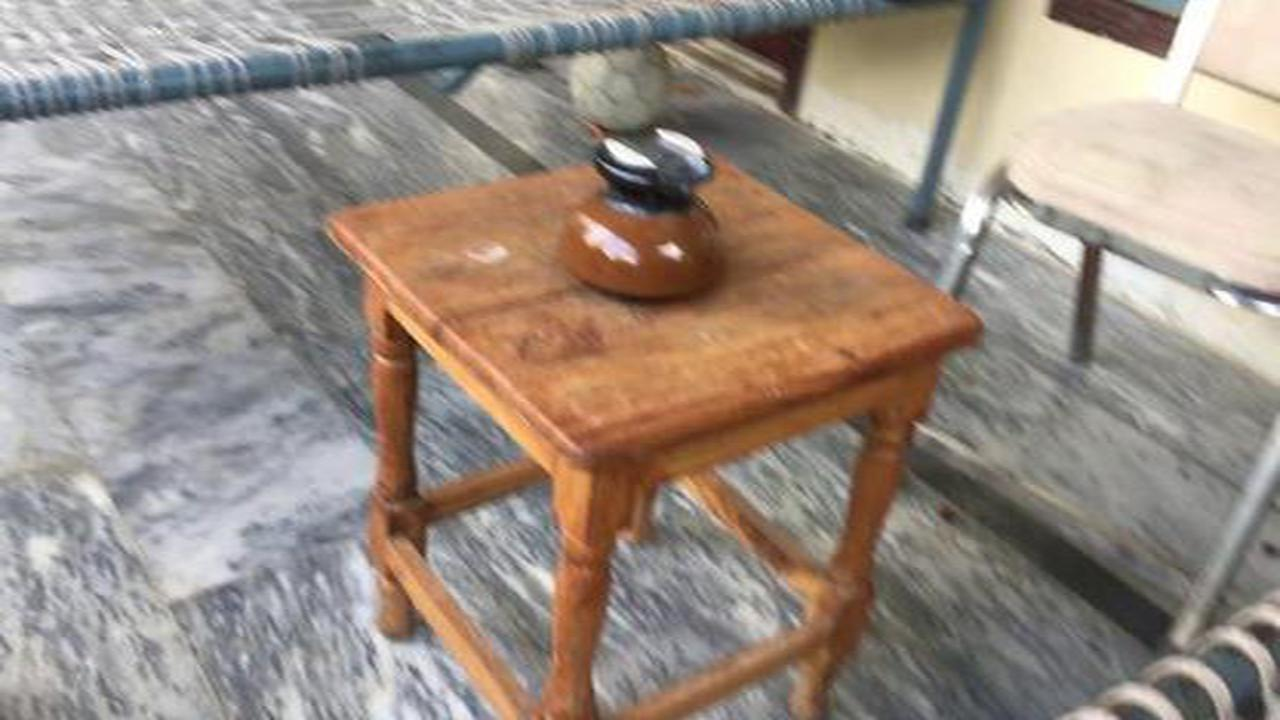insulator_pin: (542, 103, 748, 314)
